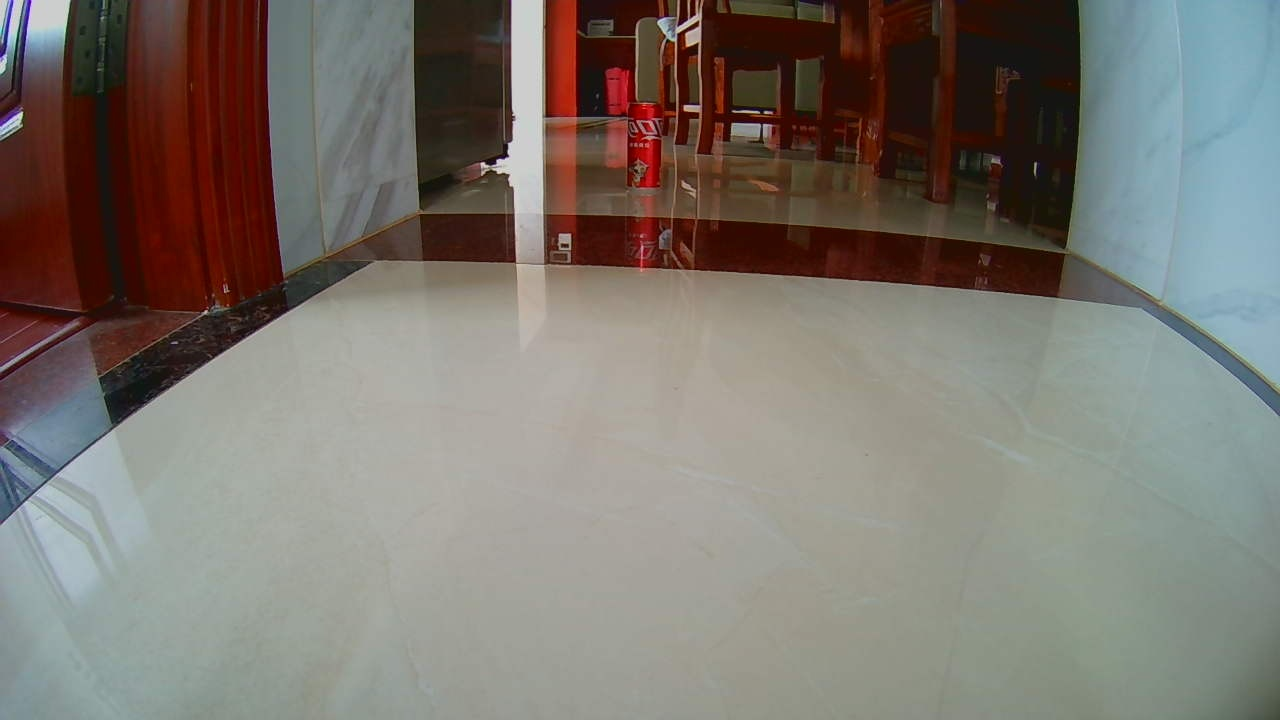cola: (627, 98, 667, 192)
